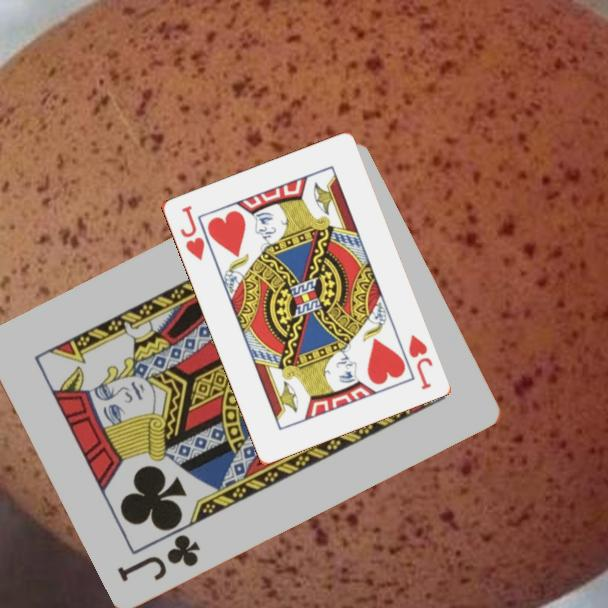c11: (113, 531, 203, 586)
h11: (404, 330, 435, 393), (176, 202, 207, 263)
